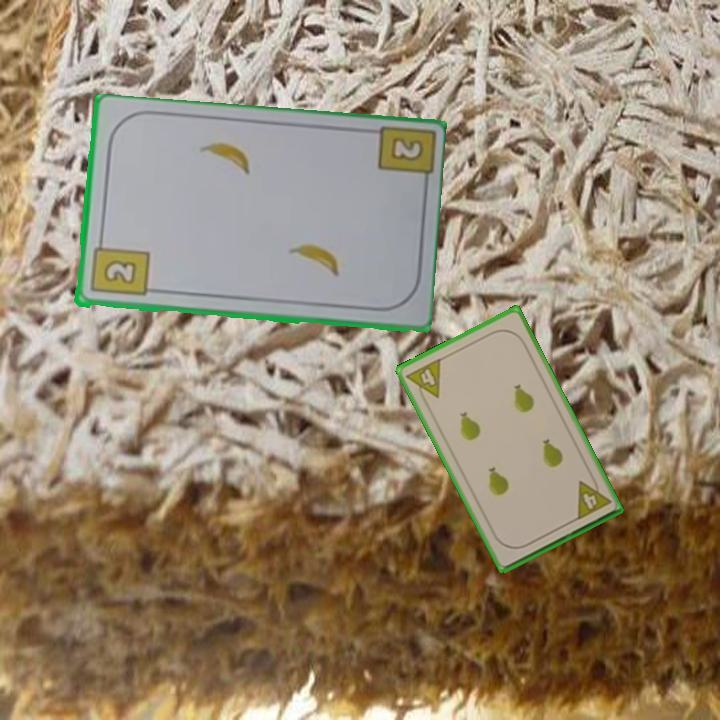2b: (87, 235, 151, 300), (387, 134, 427, 164)
4p: (403, 354, 444, 407), (572, 472, 614, 523)
